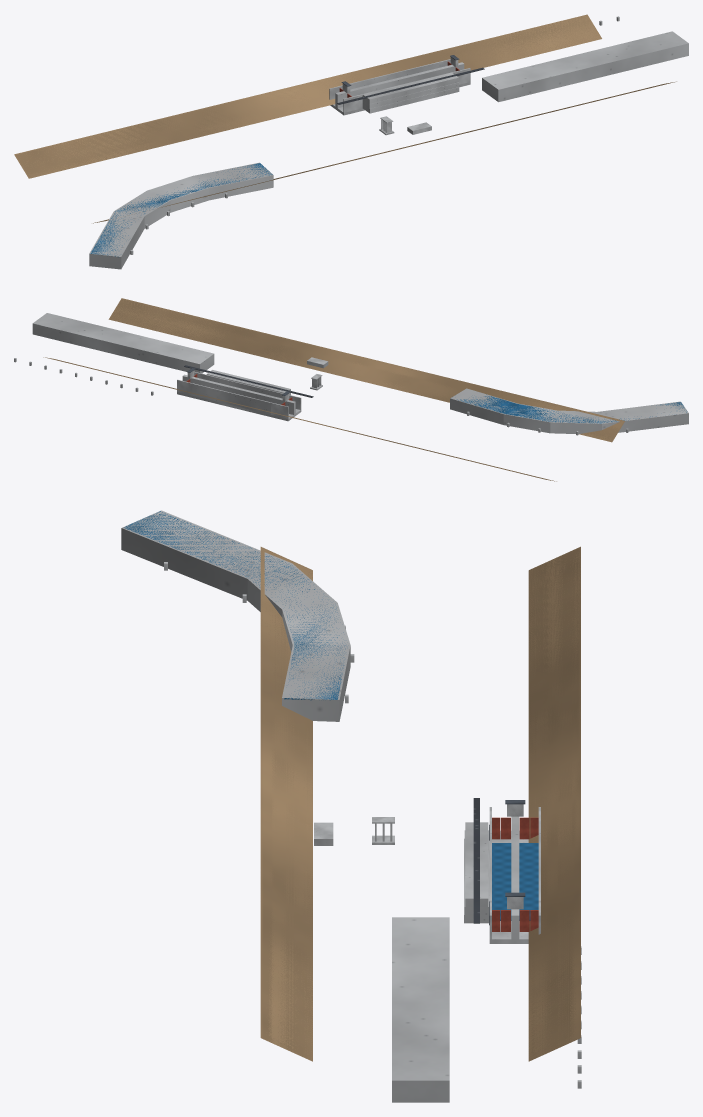
The model's file is madao-low.glb.
3 renders of one model, top to bottom at view 1: azimuth 30°, elevation 25°; view 2: azimuth 150°, elevation 25°; view 3: azimuth 270°, elevation 25°, orthographic. The views are drawn at different scales.
Visible parts, largest first — view 1: MAD_TERRAIN_slope_L_01, MAD_WAY_apron_up_01, MAD_WAY_apron_dn_01, MAD_WAY_water_up_01, MAD_LOCK_middike_01, MAD_POOL_stack_03, MAD_TERRAIN_slope_R_01, MAD_LOCK_wallL_chamber_01, MAD_POOL_stack_01, MAD_POOL_stack_02; view 2: MAD_TERRAIN_slope_R_01, MAD_WAY_apron_up_01, MAD_WAY_apron_dn_01, MAD_WAY_water_up_01, MAD_LOCK_wallL_chamber_01, MAD_LOCK_middike_01, MAD_TERRAIN_slope_L_01, MAD_POOL_stack_03, MAD_LOCK_wallR_chamber_01, MAD_SITE_road_01; view 3: MAD_TERRAIN_slope_L_01, MAD_TERRAIN_slope_R_01, MAD_WAY_apron_up_01, MAD_WAY_apron_dn_01, MAD_WAY_water_up_01, %s_LOCK_water_chamber_01, MAD_POOL_stack_03, MAD_LOCK_middike_01, MAD_SITE_road_01.
Part boxes in pixels (x1=…): MAD_TERRAIN_slope_L_01: x1=14, y1=14, x2=601, y2=178; MAD_WAY_apron_up_01: x1=89, y1=162, x2=273, y2=269; MAD_WAY_apron_dn_01: x1=482, y1=31, x2=688, y2=102; MAD_WAY_water_up_01: x1=90, y1=163, x2=272, y2=257; MAD_LOCK_middike_01: x1=335, y1=62, x2=464, y2=108; MAD_POOL_stack_03: x1=363, y1=73, x2=458, y2=103; MAD_TERRAIN_slope_R_01: x1=93, y1=81, x2=676, y2=223; MAD_LOCK_wallL_chamber_01: x1=349, y1=62, x2=439, y2=89; MAD_POOL_stack_01: x1=362, y1=87, x2=459, y2=113; MAD_POOL_stack_02: x1=362, y1=82, x2=458, y2=108; MAD_TERRAIN_slope_R_01: x1=108, y1=298, x2=624, y2=442; MAD_WAY_apron_up_01: x1=450, y1=388, x2=688, y2=433; MAD_WAY_apron_dn_01: x1=32, y1=313, x2=214, y2=373; MAD_WAY_water_up_01: x1=457, y1=394, x2=687, y2=423; MAD_LOCK_wallL_chamber_01: x1=192, y1=383, x2=270, y2=414; MAD_LOCK_middike_01: x1=182, y1=374, x2=295, y2=414; MAD_TERRAIN_slope_L_01: x1=43, y1=357, x2=556, y2=481; MAD_POOL_stack_03: x1=206, y1=370, x2=290, y2=393; MAD_LOCK_wallR_chamber_01: x1=204, y1=374, x2=283, y2=398; MAD_SITE_road_01: x1=184, y1=365, x2=313, y2=397; MAD_TERRAIN_slope_L_01: x1=528, y1=546, x2=580, y2=1061; MAD_TERRAIN_slope_R_01: x1=260, y1=547, x2=312, y2=1061; MAD_WAY_apron_up_01: x1=121, y1=510, x2=350, y2=721; MAD_WAY_apron_dn_01: x1=392, y1=917, x2=449, y2=1102; MAD_WAY_water_up_01: x1=124, y1=511, x2=345, y2=700; %s_LOCK_water_chamber_01: x1=492, y1=843, x2=538, y2=920; MAD_POOL_stack_03: x1=465, y1=822, x2=488, y2=906; MAD_LOCK_middike_01: x1=511, y1=816, x2=519, y2=939; MAD_SITE_road_01: x1=473, y1=798, x2=479, y2=923.
Size of the model in its own units: 2099 by 72.4 by 716.
6 materials, 6 textured.
